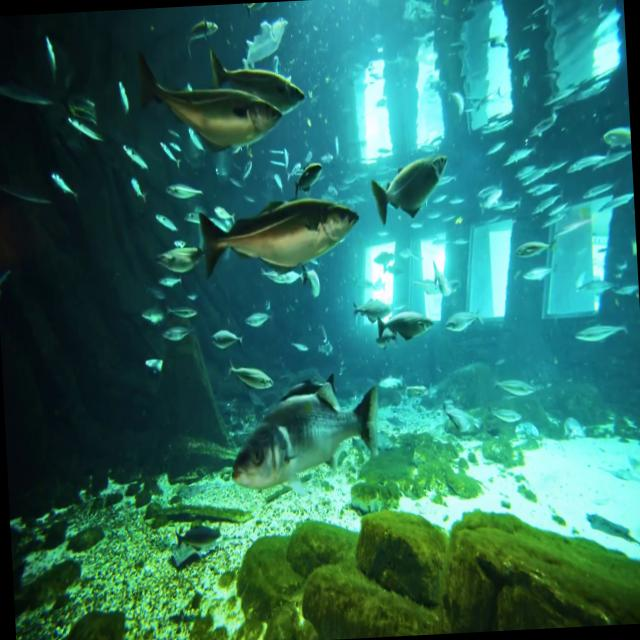fish: (130, 29, 288, 170), (228, 367, 391, 492), (190, 185, 365, 292), (201, 42, 317, 118), (367, 140, 455, 234), (365, 294, 445, 378), (573, 307, 640, 359), (142, 240, 206, 283), (157, 170, 216, 214), (227, 356, 282, 402), (509, 217, 560, 258), (349, 280, 389, 327), (288, 150, 328, 196), (160, 296, 213, 328), (204, 317, 242, 359), (159, 315, 198, 350), (244, 303, 278, 343), (521, 254, 558, 288), (602, 123, 632, 154)
